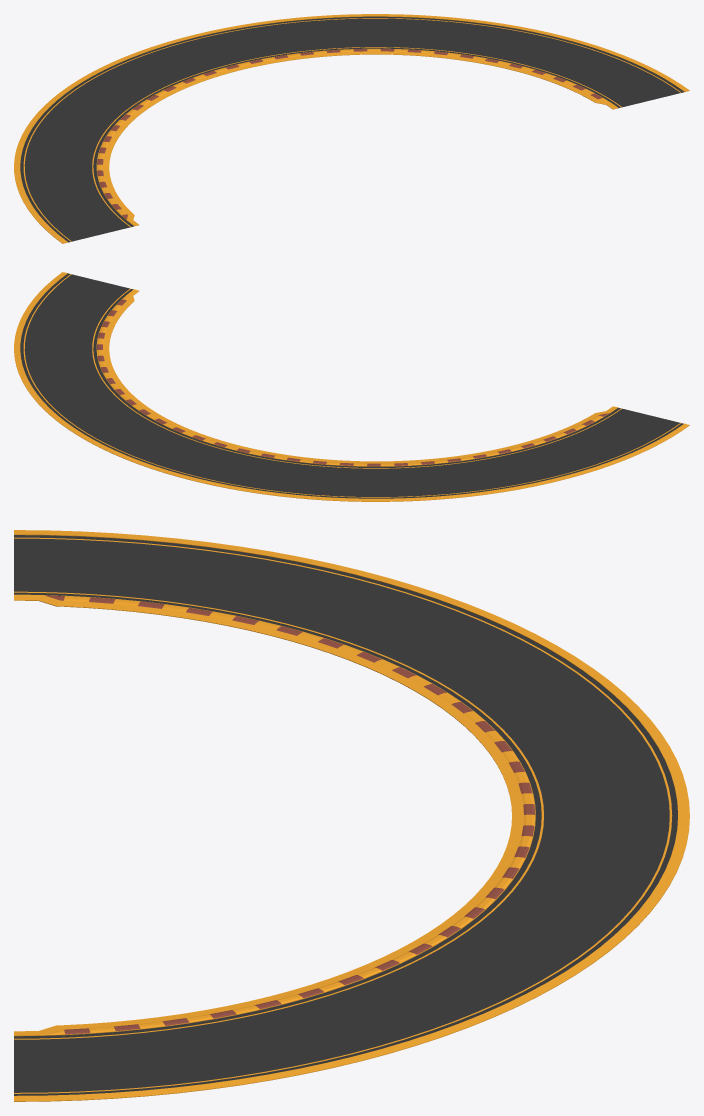
File: SM_Racetrack_RunOff_Curb_UTurn_120x60m.fbx
The picture shows the model from 3 angles, top to bottom: view 1: azimuth 30°, elevation 25°; view 2: azimuth 150°, elevation 25°; view 3: azimuth 270°, elevation 25°; orthographic projection. The views are drawn at different scales.
Visible parts, largest first — view 1: SM_Racetrack_RunOff_Curb_UTurn_120x60m; view 2: SM_Racetrack_RunOff_Curb_UTurn_120x60m; view 3: SM_Racetrack_RunOff_Curb_UTurn_120x60m.
Boxes of the visible parts, x1,y1,x2,y2 form: SM_Racetrack_RunOff_Curb_UTurn_120x60m: (14,14,689,243); SM_Racetrack_RunOff_Curb_UTurn_120x60m: (14,272,689,501); SM_Racetrack_RunOff_Curb_UTurn_120x60m: (14,530,689,1101).
Bounding box in the file's own units: 114 × 0.1556 × 57.
